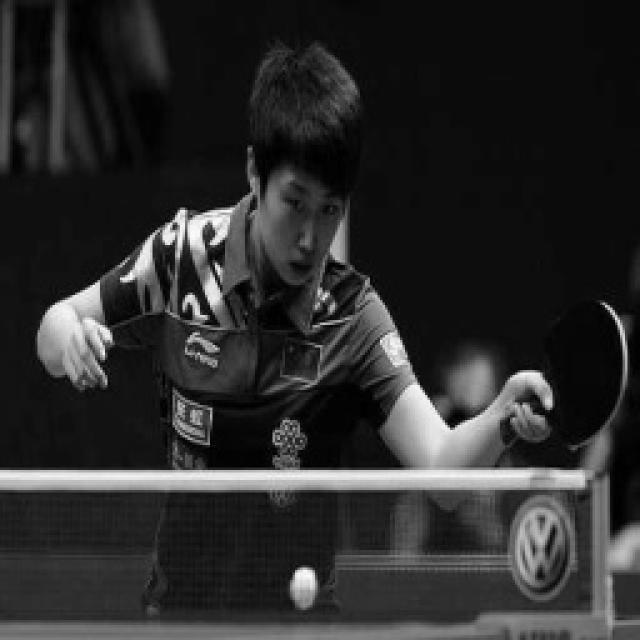ping-pong-ball: (289, 564, 319, 611)
